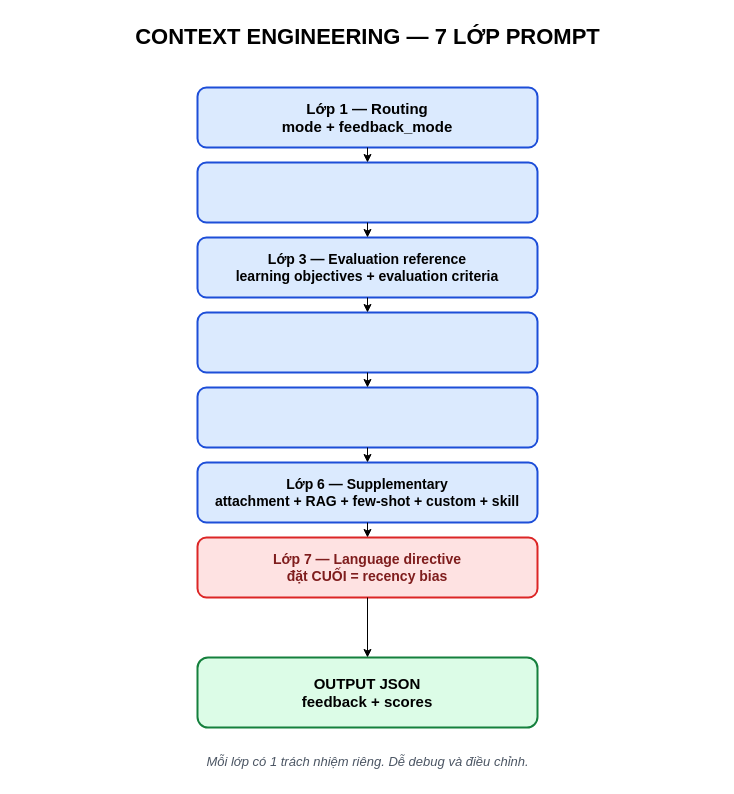
The diagram is 734 pixels wide and 794 high, and some of its shapes have lost their labels. The centre of each missing label's shape, as x and y in pixels:
"Lớp 2 — Task context title / description / outcome / instruction" goes at point (367, 192).
"Lớp 4 — Persona góc nhìn stakeholder" goes at point (367, 342).
"Lớp 5 — Student work submission + previous + reflection + history" goes at point (367, 417).
